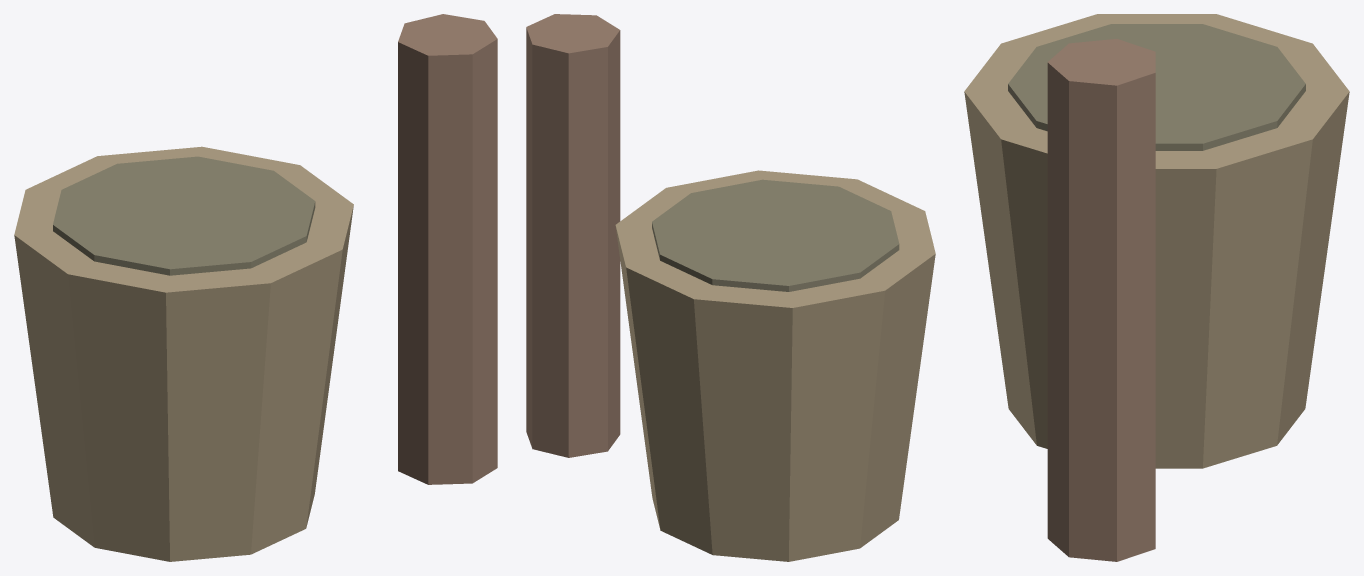
3 renders of one model, left to right at view 1: azimuth 30°, elevation 25°; view 2: azimuth 150°, elevation 25°; view 3: azimuth 270°, elevation 25°, orthographic. The views are drawn at different scales.
Visible parts, largest first — view 1: H11; view 2: H11; view 3: H11.
Part boxes in pixels (left/top/right/bottom): H11: left=14, top=14, right=497, bottom=561; H11: left=526, top=14, right=935, bottom=561; H11: left=964, top=14, right=1349, bottom=561.
Bounding box in the file's own units: 0.6226 × 0.6 × 0.44.
